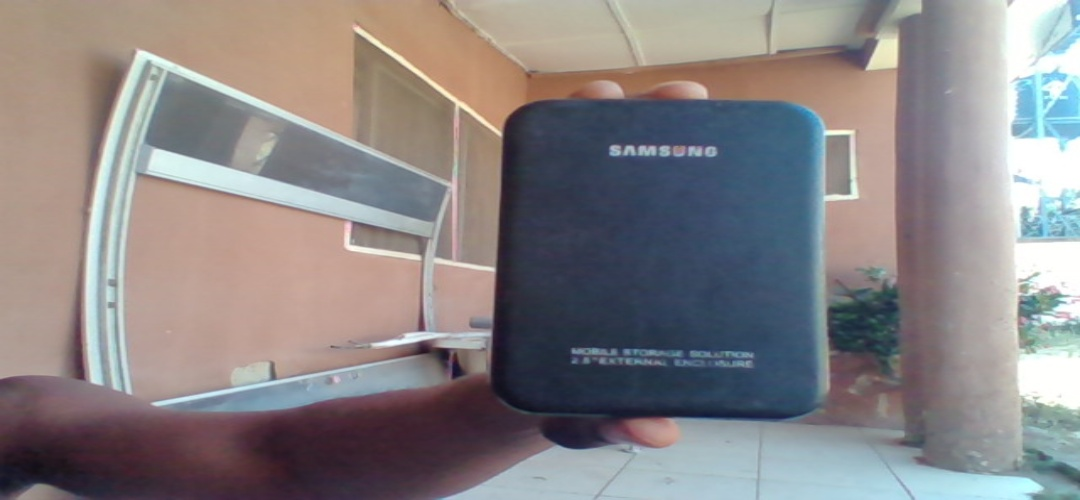hard_disk_case: (499, 97, 830, 416)
